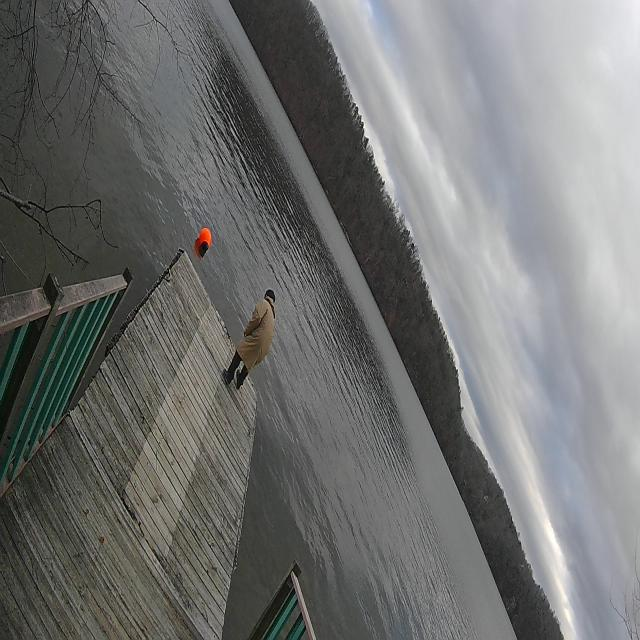Buoy: (196, 225, 214, 262)
